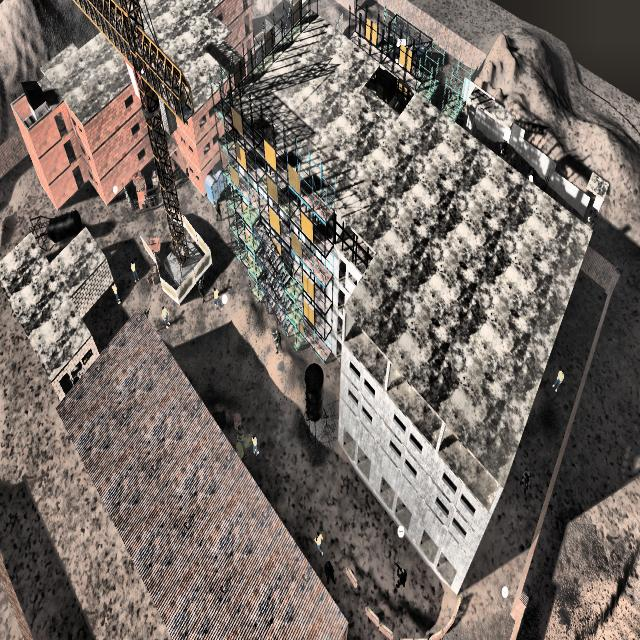bad: (392, 554, 410, 601), (519, 458, 535, 504), (322, 553, 337, 591), (270, 320, 284, 360), (194, 269, 207, 310), (212, 194, 224, 226), (144, 299, 154, 326)
good: (549, 361, 567, 398), (126, 256, 142, 293), (107, 274, 123, 309), (209, 279, 224, 315), (158, 301, 172, 334), (312, 525, 326, 558), (248, 429, 262, 460)
